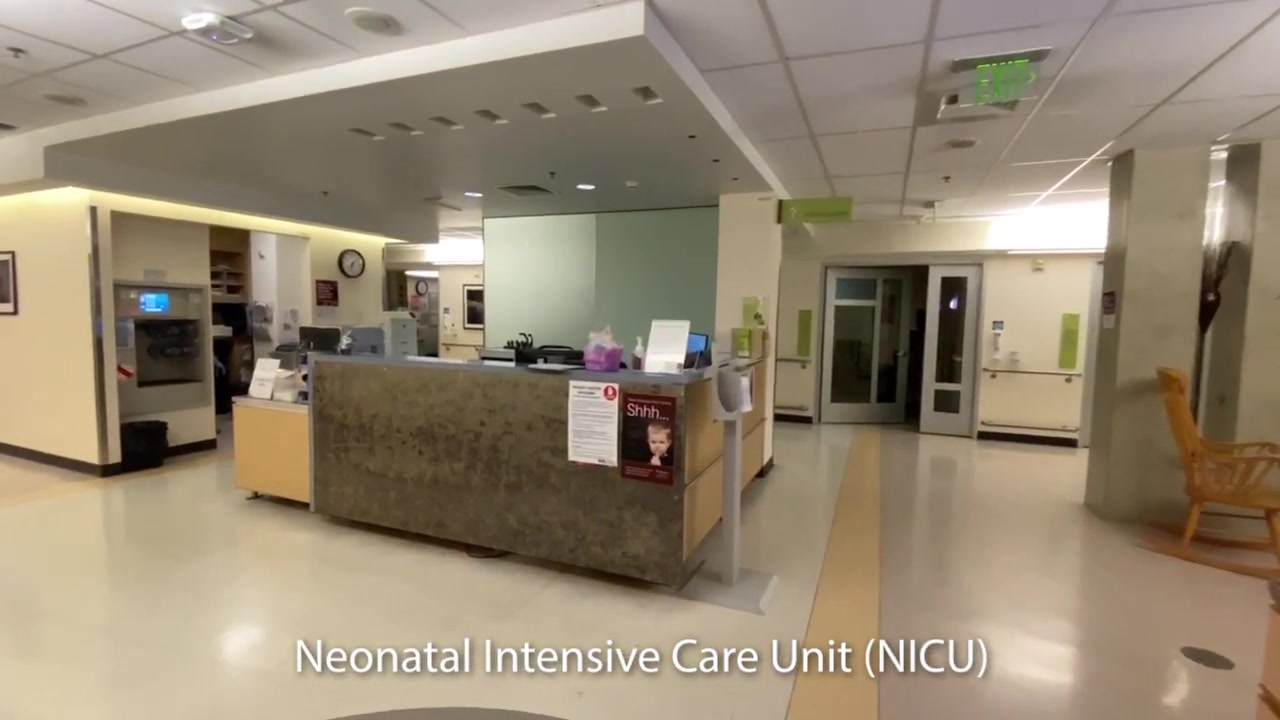chair: (1143, 364, 1280, 580)
counter: (310, 353, 765, 599)
dispenser: (990, 318, 1005, 360)
hallway_assist_bar: (982, 368, 1082, 383), (980, 420, 1080, 434), (776, 358, 812, 369), (774, 403, 807, 412)
table: (233, 393, 311, 507)
waste_bin: (120, 420, 169, 472)
